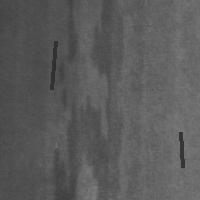inclusion: (47, 94, 118, 199), (90, 1, 128, 117), (50, 2, 80, 90), (49, 39, 57, 91), (178, 130, 184, 169)
